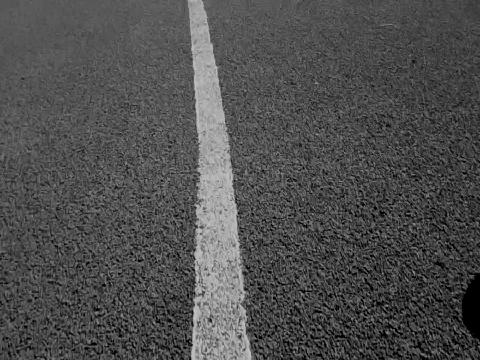Lines: (186, 0, 255, 360)
